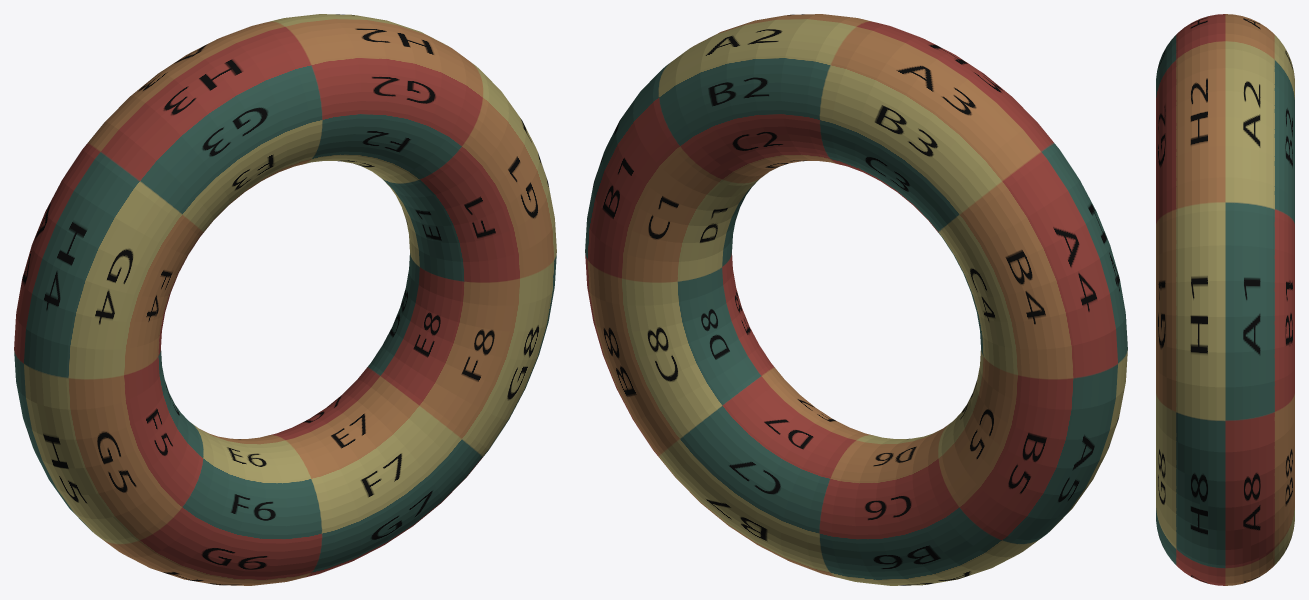
The model's file is texture_torus_R13_r15.glb.
3 renders of one model, left to right at view 1: azimuth 30°, elevation 25°; view 2: azimuth 150°, elevation 25°; view 3: azimuth 270°, elevation 25°, orthographic. The views are drawn at different scales.
Visible parts, largest first — view 1: world; view 2: world; view 3: world.
Part boxes in pixels (x1=…): world: x1=14, y1=14, x2=556, y2=585; world: x1=585, y1=14, x2=1127, y2=585; world: x1=1156, y1=14, x2=1294, y2=585.
Bounding box in the file's own units: 24.67 × 24.62 × 5.99.
Materials: 1 (1 with a texture image).
